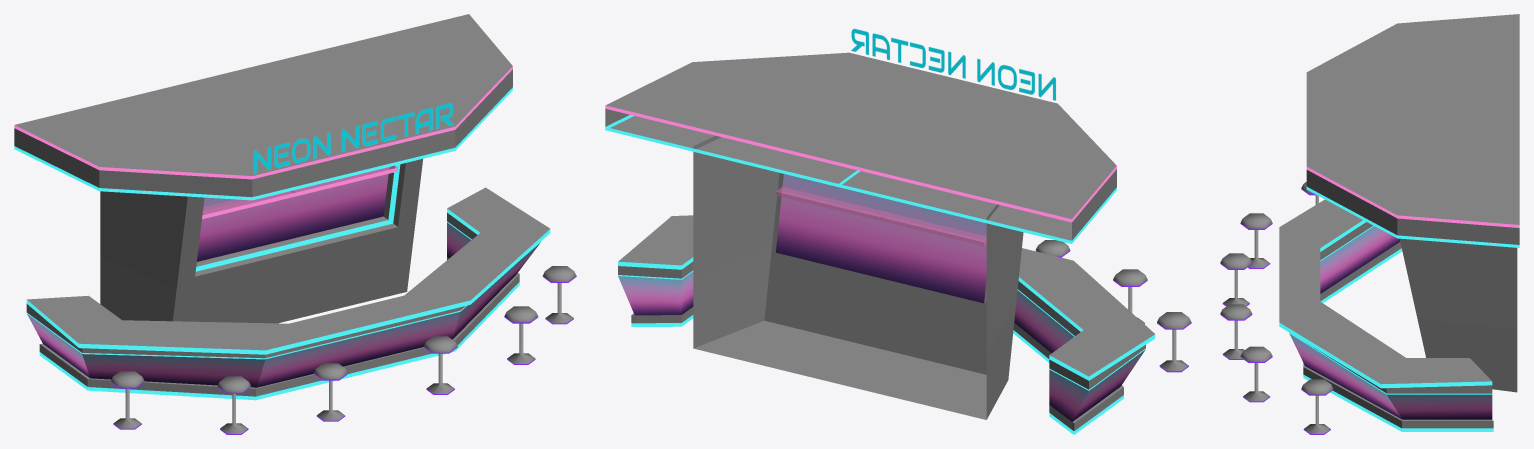
Rendered from neon_bar.glb.
3 renders of one model, left to right at view 1: azimuth 30°, elevation 25°; view 2: azimuth 150°, elevation 25°; view 3: azimuth 270°, elevation 25°, orthographic. The views are drawn at different scales.
Parts seen in each view (by area): view 1: neon_bar; view 2: neon_bar; view 3: neon_bar.
Boxes of the visible parts, box(x1,y1,x2,y2) form: neon_bar: box(14, 14, 576, 434); neon_bar: box(605, 28, 1191, 434); neon_bar: box(1220, 14, 1519, 434).
Size of what is drawn, in the model's own units: 9.66 by 5.11 by 5.59.
7 materials, 2 textured.
